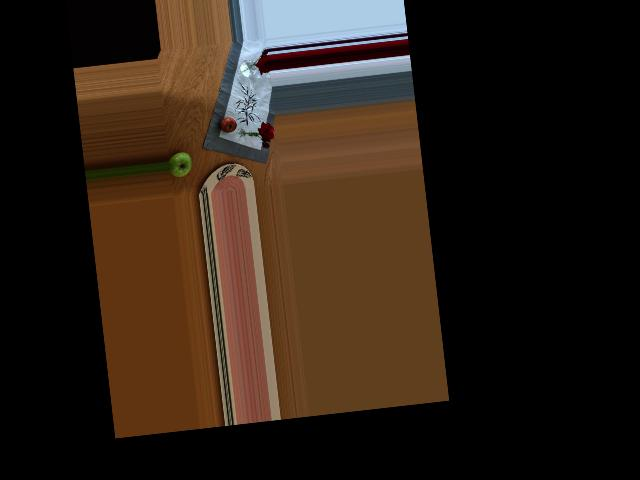apple: (167, 150, 194, 179)
